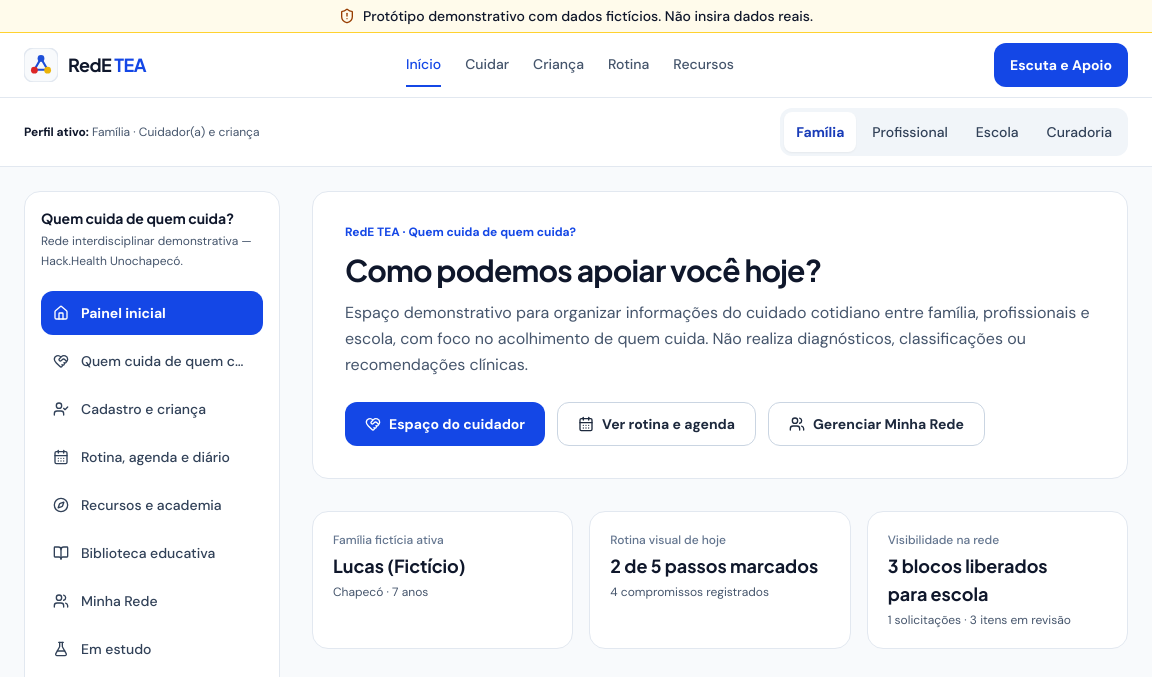
Test: RedE TEA — Protótipo Navegável › permite navegar entre os quatro perfis demonstrativos e manter o aviso permanente
Click the button "Profissional" at (910, 132), box [860,112,960,152]
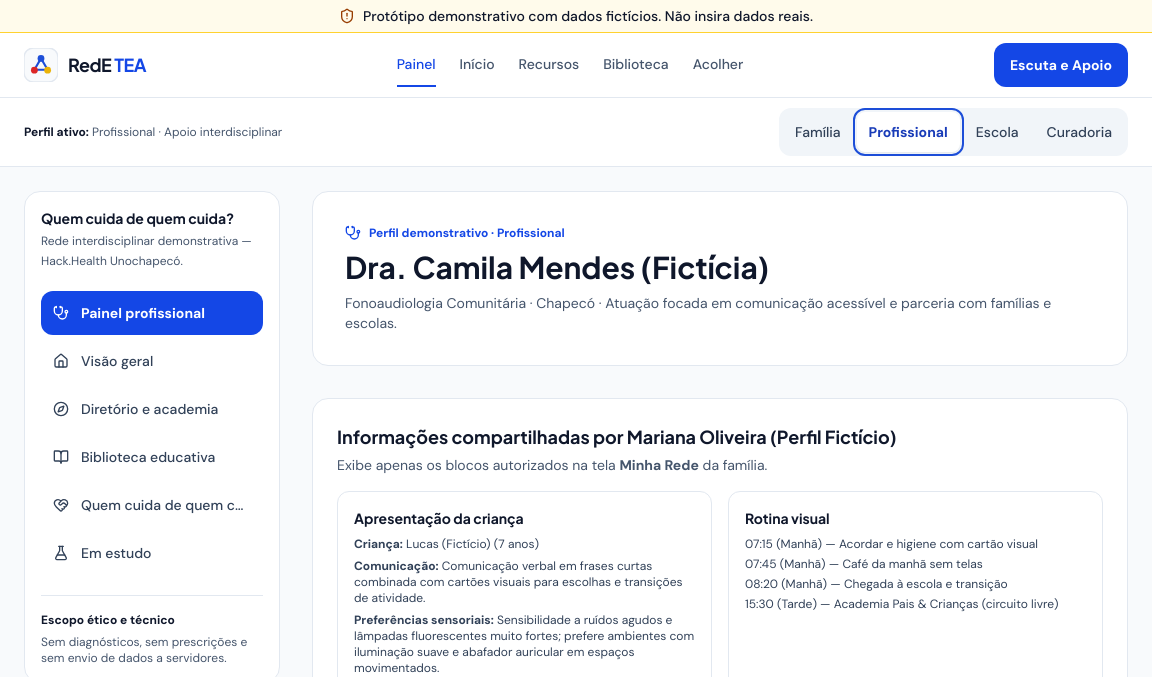
expect the heading "Dra. Camila Mendes (Fictícia)" is shown: met, box [345,248,769,286]
Click the button "Escola" at (997, 132), box [964,112,1031,152]
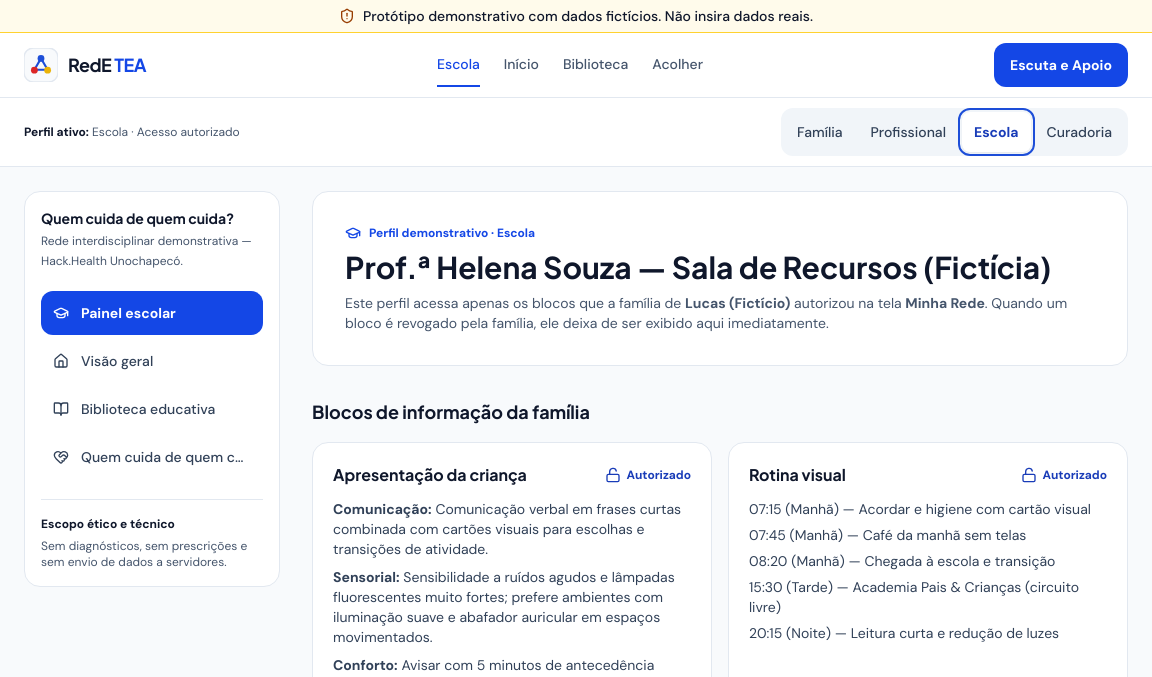
expect the heading "Prof.ª Helena Souza — Sala de Recursos (Fictícia)" is shown: met, box [345,249,1095,285]
Click the button "Curadoria" at (1079, 132), box [1035,112,1124,152]
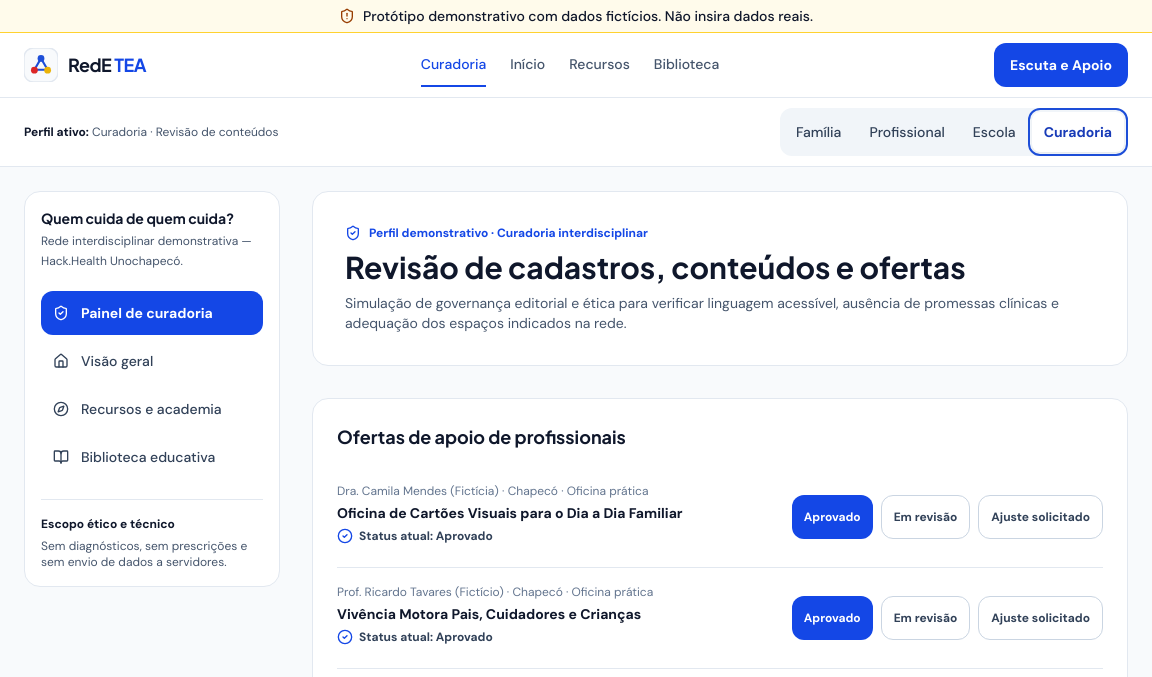
expect the heading "Revisão de cadastros, conteúdos e ofertas" is shown: met, box [345,248,966,286]
Click the button "Família" at (819, 132), box [784,112,853,152]
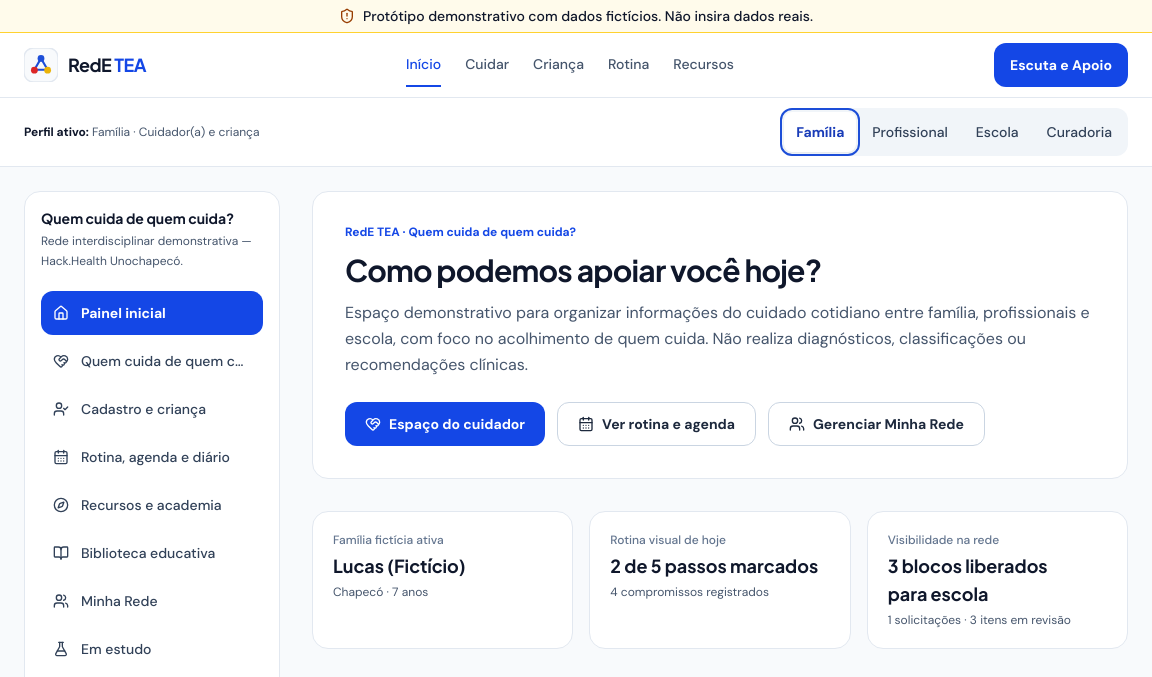
expect the text "Protótipo demonstrativo com dados fictícios. Não insira dados reais." is shown: met, box [363,6,813,26]
expect the heading "Como podemos apoiar você hoje?" is shown: met, box [345,251,822,289]
